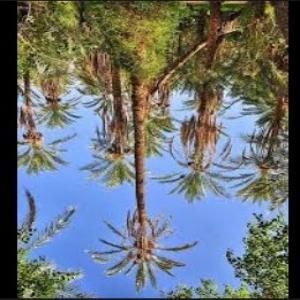palm tree: (16, 0, 286, 292)
